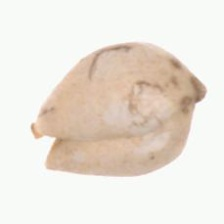L1: (30, 119, 60, 169), (182, 71, 207, 114)
L2: (32, 41, 206, 177)
